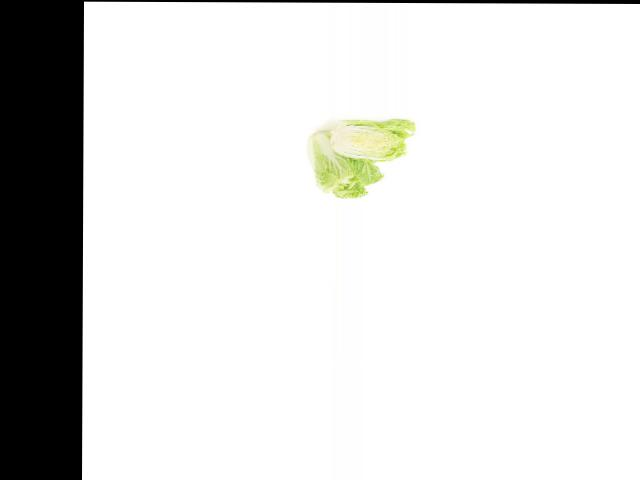lettuce: (304, 126, 388, 202)
